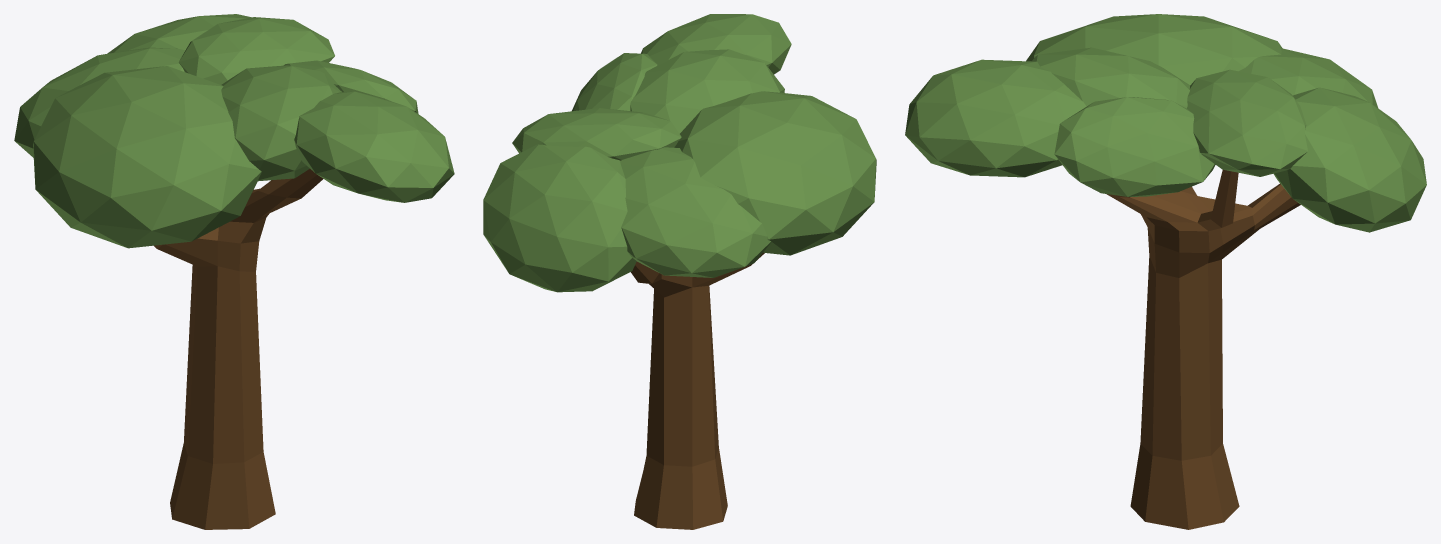
The model's file is TreeBase3.fbx.
The picture shows the model from 3 angles, left to right: view 1: azimuth 30°, elevation 25°; view 2: azimuth 150°, elevation 25°; view 3: azimuth 270°, elevation 25°; orthographic projection. The views are drawn at different scales.
Parts seen in each view (by area): view 1: Icosphere.002, treeBase, Icosphere.001, Icosphere; view 2: Icosphere, Icosphere.002, treeBase, Icosphere.001; view 3: Icosphere.001, treeBase, Icosphere, Icosphere.002.
Boxes of the visible parts, x1,y1,x2,y2 form: Icosphere.002: (33,66,261,248); treeBase: (154,169,323,529); Icosphere.001: (221,60,454,202); Icosphere: (14,14,334,157); Icosphere: (483,108,771,292); Icosphere.002: (674,91,876,255); treeBase: (631,252,764,529); Icosphere.001: (572,14,791,133); Icosphere.001: (905,47,1215,196); treeBase: (1106,169,1300,529); Icosphere: (1187,48,1426,232); Icosphere.002: (1026,14,1282,85).
Bounding box in the file's own units: 362 × 489 × 506.
